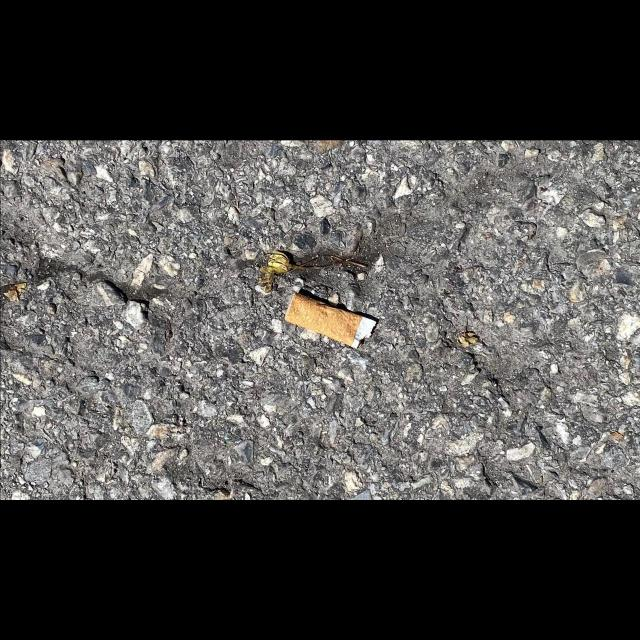cigarette: (283, 290, 377, 349)
